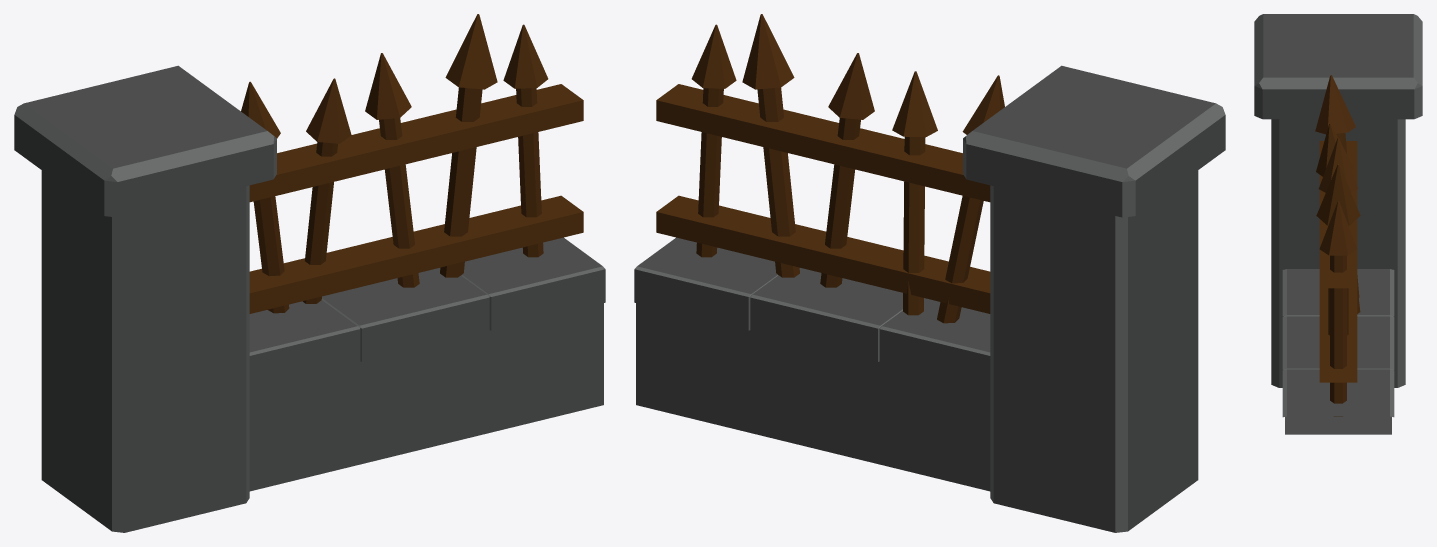
File: Graveyard Fence.glb
The picture shows the model from 3 angles, left to right: view 1: azimuth 30°, elevation 25°; view 2: azimuth 150°, elevation 25°; view 3: azimuth 270°, elevation 25°; orthographic projection. The views are drawn at different scales.
Visible parts, largest first — view 1: Fence_01Graveyard_Circle.007; view 2: Fence_01Graveyard_Circle.007; view 3: Fence_01Graveyard_Circle.007.
Part boxes in pixels (bbox=[...]): Fence_01Graveyard_Circle.007: bbox=[14, 14, 605, 532]; Fence_01Graveyard_Circle.007: bbox=[634, 14, 1225, 532]; Fence_01Graveyard_Circle.007: bbox=[1254, 14, 1422, 434].
Size of the model in its own units: 4.81 by 3.52 by 1.62.
